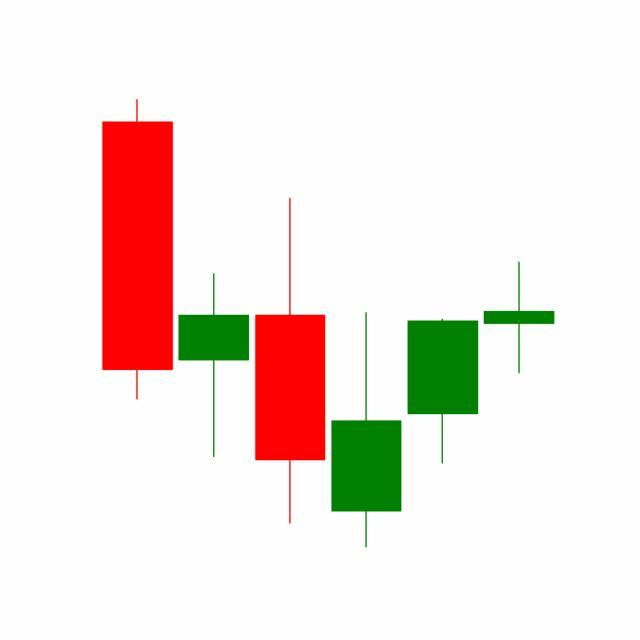Hikkake Pattern: (175, 193, 555, 548)
